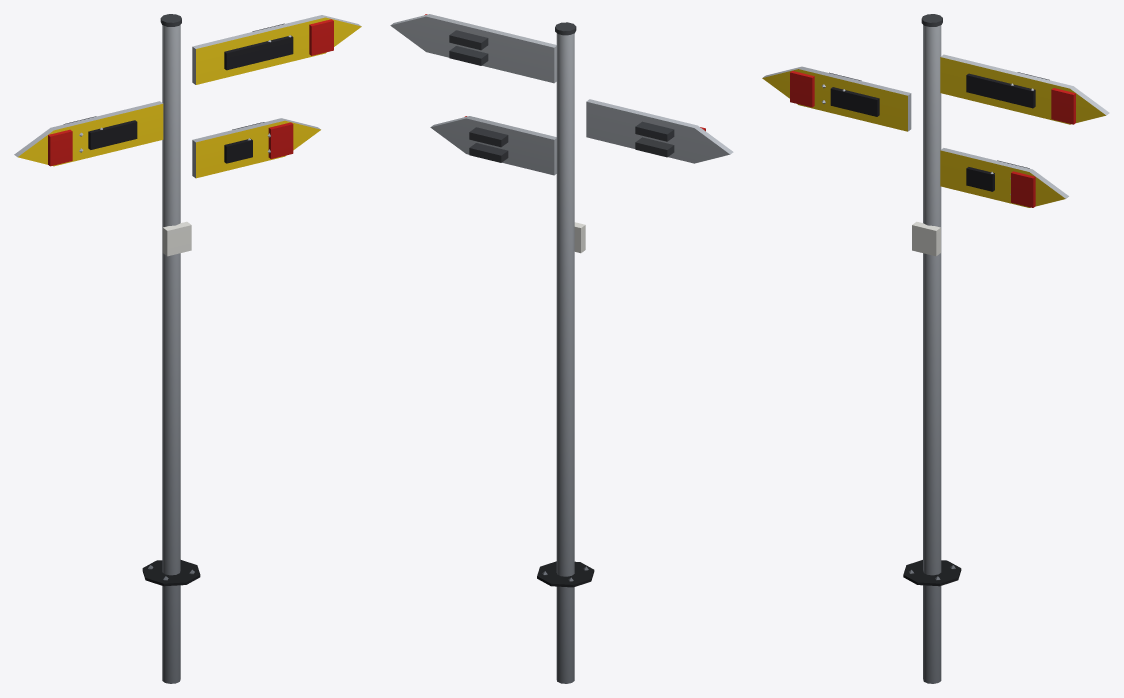
File: Sign_Hiking.fbx
3 views of the same model, side by side, from view 1: azimuth 30°, elevation 25°; view 2: azimuth 150°, elevation 25°; view 3: azimuth 330°, elevation 25° (orthographic).
Visible parts, largest first — view 1: Sign_Hiking_LOD0; view 2: Sign_Hiking_LOD0; view 3: Sign_Hiking_LOD0.
Part boxes in pixels (<box>): Sign_Hiking_LOD0: <box>14,14,361,683</box>; Sign_Hiking_LOD0: <box>390,14,733,683</box>; Sign_Hiking_LOD0: <box>762,14,1109,683</box>.
Size of what is drawn, in the model's own units: 1.7 by 3.12 by 0.256.
Materials: 1 (1 with a texture image).
